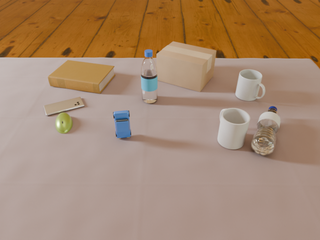book: (48, 60, 115, 93)
bottle: (251, 106, 281, 156), (141, 50, 158, 103)
box: (156, 42, 216, 92)
cup: (218, 108, 250, 149), (236, 70, 265, 101)
mouse: (55, 113, 72, 133)
phone: (44, 97, 84, 116)
toy_car: (113, 110, 131, 138)
